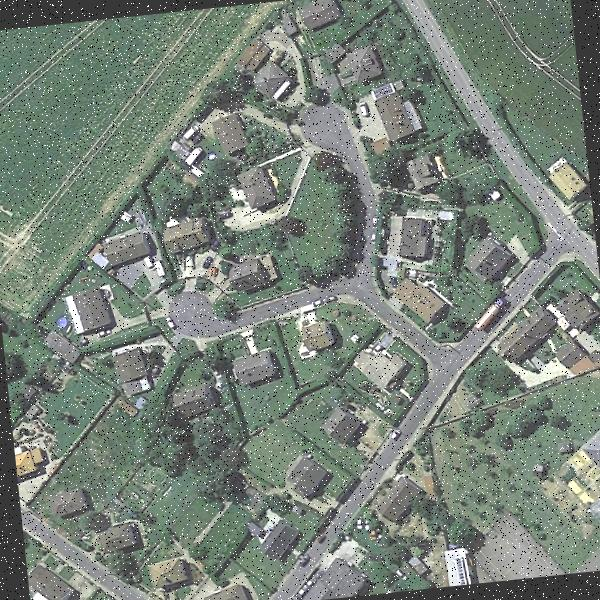Buildings: (386, 272, 444, 330), (498, 305, 558, 360), (66, 280, 122, 332), (27, 553, 82, 600), (464, 238, 519, 280), (368, 94, 418, 140), (547, 154, 588, 210), (554, 285, 600, 334), (98, 232, 153, 268), (366, 337, 404, 389), (112, 342, 150, 394), (231, 164, 273, 211), (309, 560, 358, 600), (395, 215, 433, 266), (169, 385, 218, 424), (286, 0, 341, 30), (571, 409, 600, 464), (285, 460, 327, 497), (375, 481, 417, 518), (229, 350, 277, 382), (224, 260, 269, 294), (247, 63, 288, 100), (334, 49, 376, 84), (98, 521, 145, 552), (165, 217, 209, 248), (148, 560, 188, 594), (261, 520, 297, 556), (51, 487, 90, 518), (14, 442, 47, 476), (212, 116, 244, 149), (205, 581, 252, 600), (327, 411, 358, 439), (302, 320, 326, 348)
